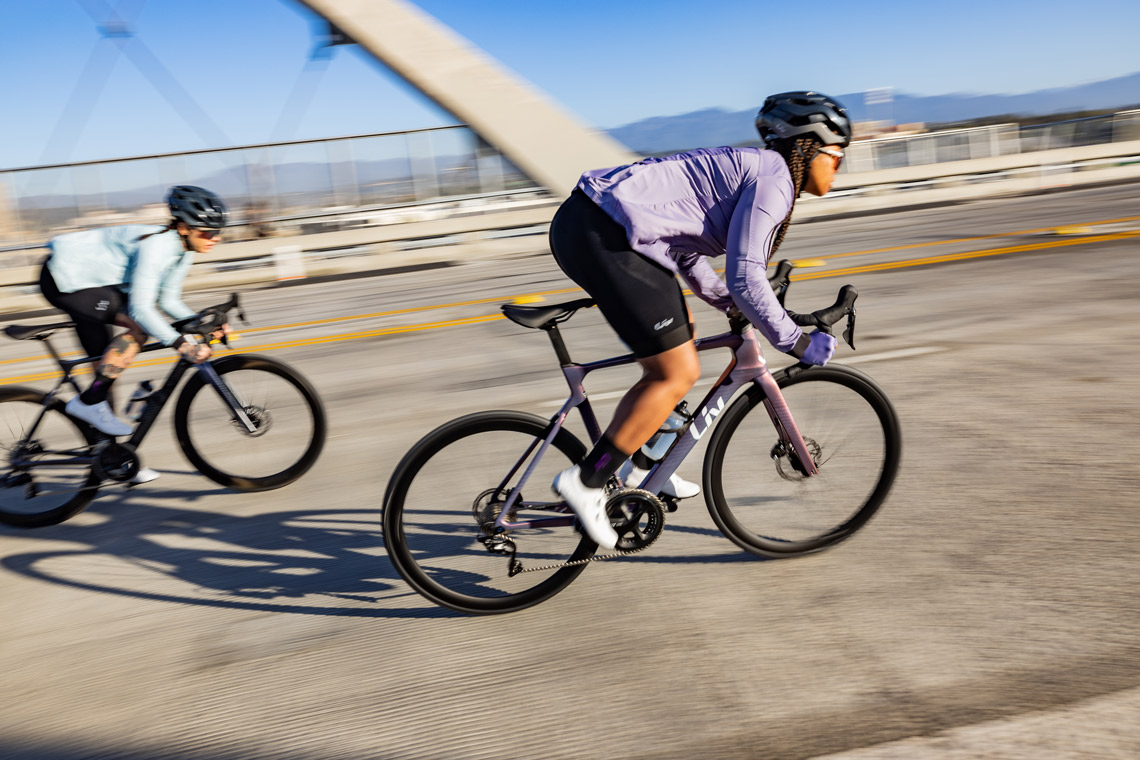Bicycle: (377, 300, 901, 617), (6, 311, 335, 545)
